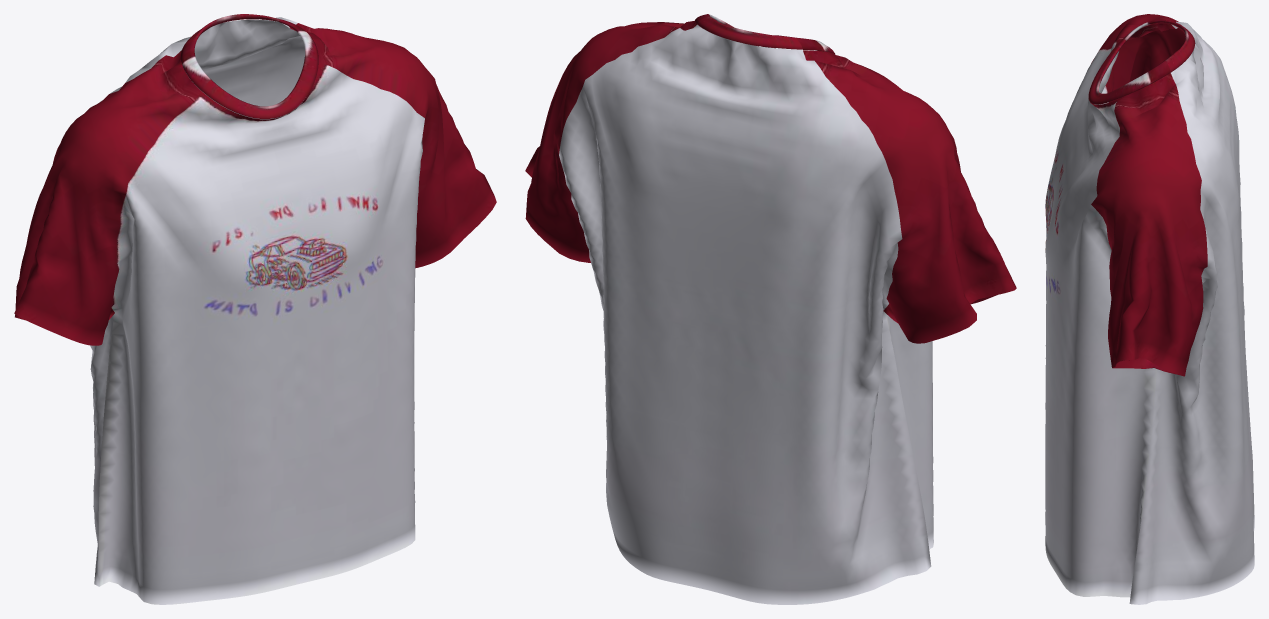
The model's file is tee-L.glb.
3 views of the same model, side by side, from view 1: azimuth 30°, elevation 25°; view 2: azimuth 150°, elevation 25°; view 3: azimuth 270°, elevation 25° (orthographic). The views are drawn at different scales.
Visible parts, largest first — view 1: tee; view 2: tee; view 3: tee.
Boxes of the visible parts, left/top/right/bottom form: tee: left=14, top=14, right=496, bottom=604; tee: left=525, top=14, right=1016, bottom=604; tee: left=1045, top=14, right=1254, bottom=604.
Bounding box in the file's own units: 0.6647 × 0.6944 × 0.2589.
2 materials, 2 textured.
